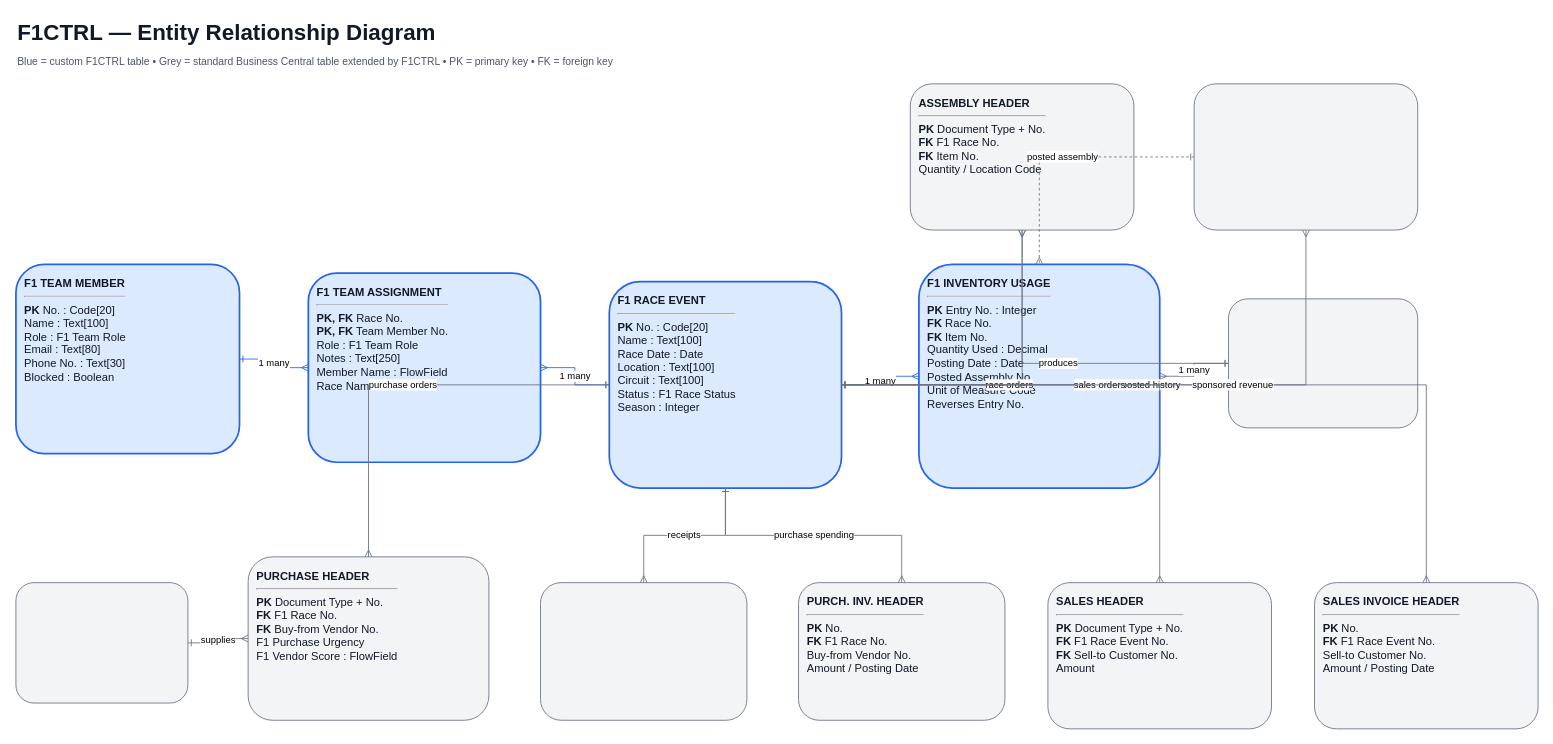
Some shapes in this 1553 by 744 pixel diagram are drawn without their labels. The centre of each missing label's shape, as x and y in pixels:
"ITEM PK No. Description Inventory Base Unit of Measure" belongs at (1323,363).
"POSTED ASSEMBLY HEADER PK No. FK F1 Race No. FK Item No. Quantity / Posting Date" belongs at (1305,156).
"PURCH. RCPT. HEADER PK No. FK F1 Race No. Buy-from Vendor No. Posting Date" belongs at (643,651).
"VENDOR PK No. Name F1 Vendor Score" belongs at (101,642).
